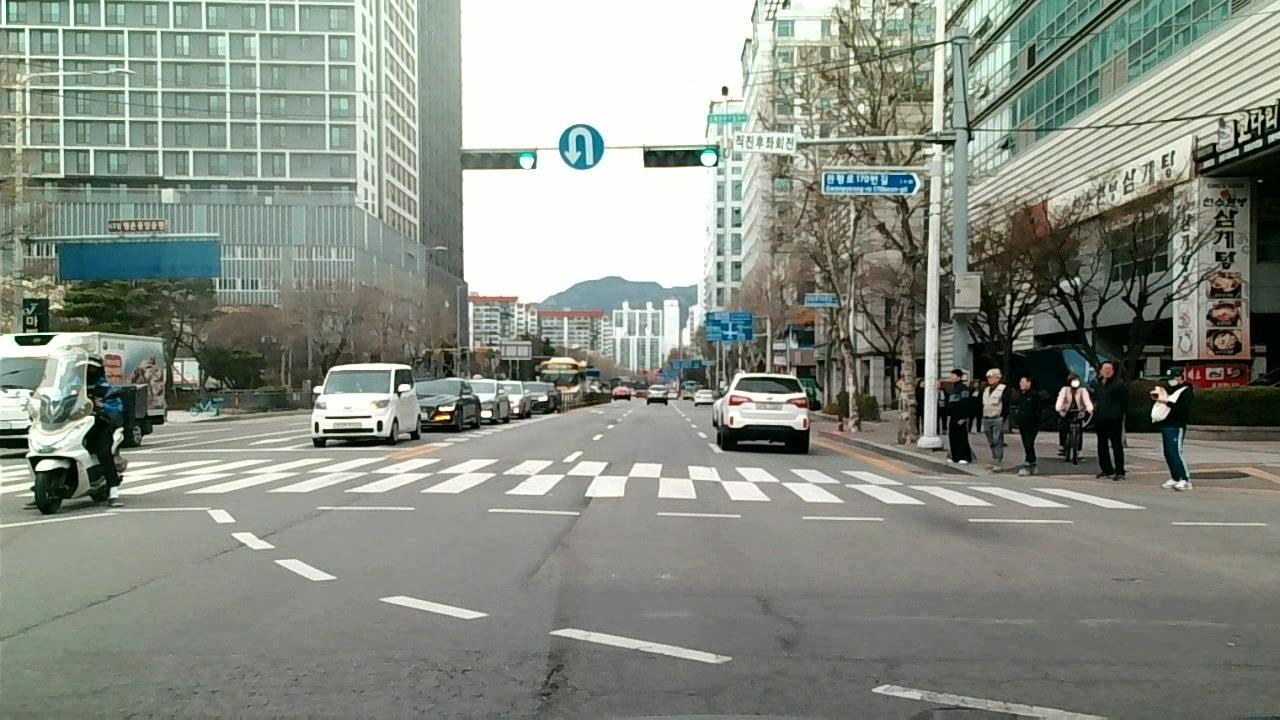banner: (1, 576, 158, 652), (817, 650, 1277, 674), (429, 646, 572, 720), (750, 594, 811, 659), (205, 534, 276, 562)
